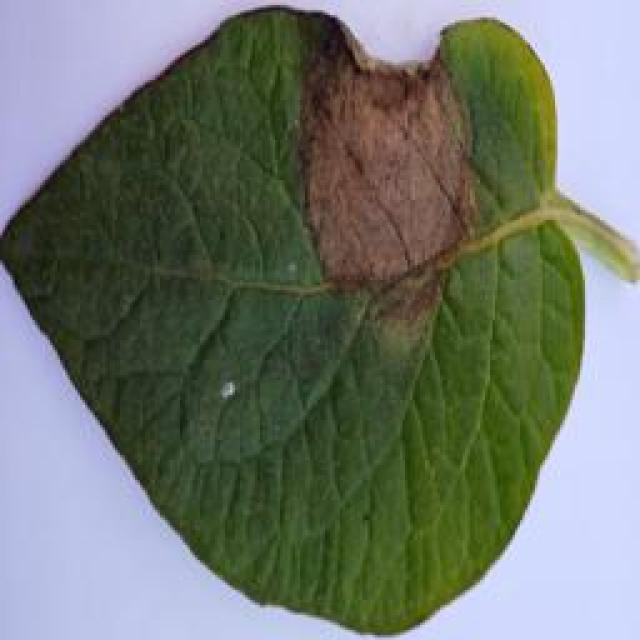Potato_Late_Blight: (4, 11, 621, 637)
